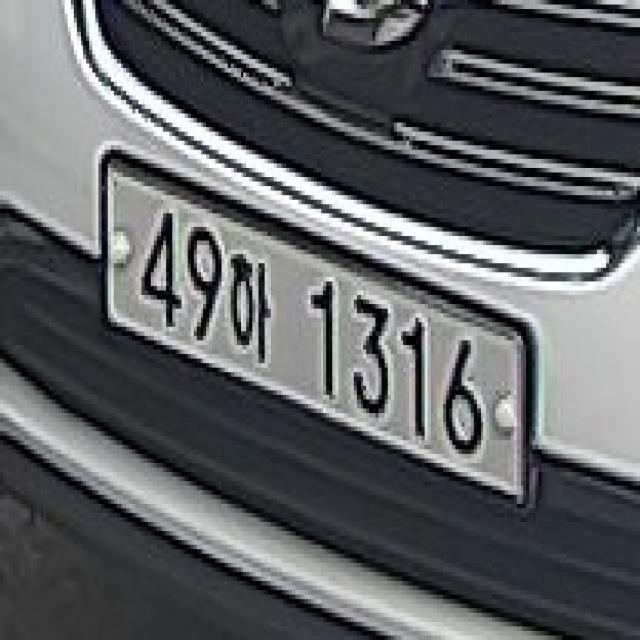1: (398, 314, 430, 444), (310, 276, 339, 402)
3: (348, 294, 392, 419)
4: (139, 208, 182, 337)
6: (440, 331, 485, 464)
9: (184, 218, 225, 350)
ha: (228, 245, 276, 374)
license_plate: (95, 146, 535, 523)
